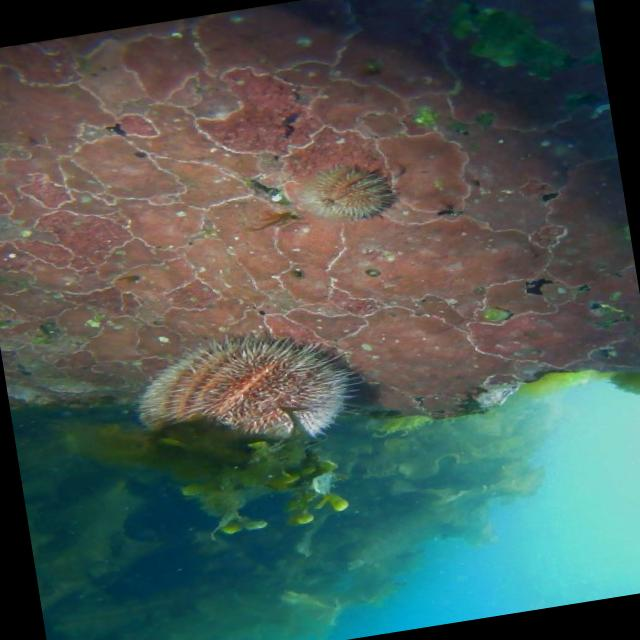Deniz Kestanesi: (124, 312, 378, 480), (296, 156, 402, 230)
